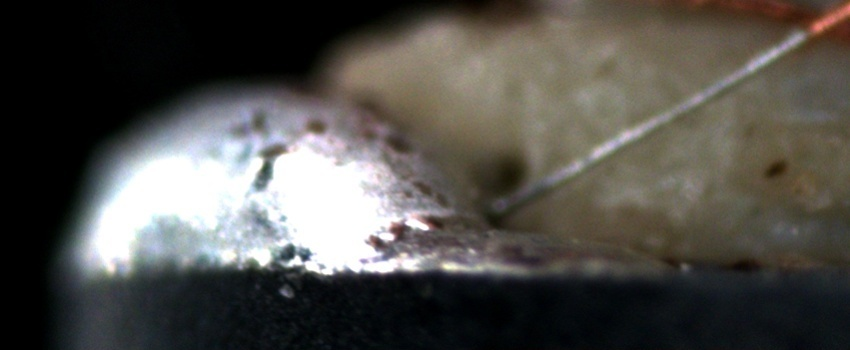TS: (483, 29, 810, 216)
